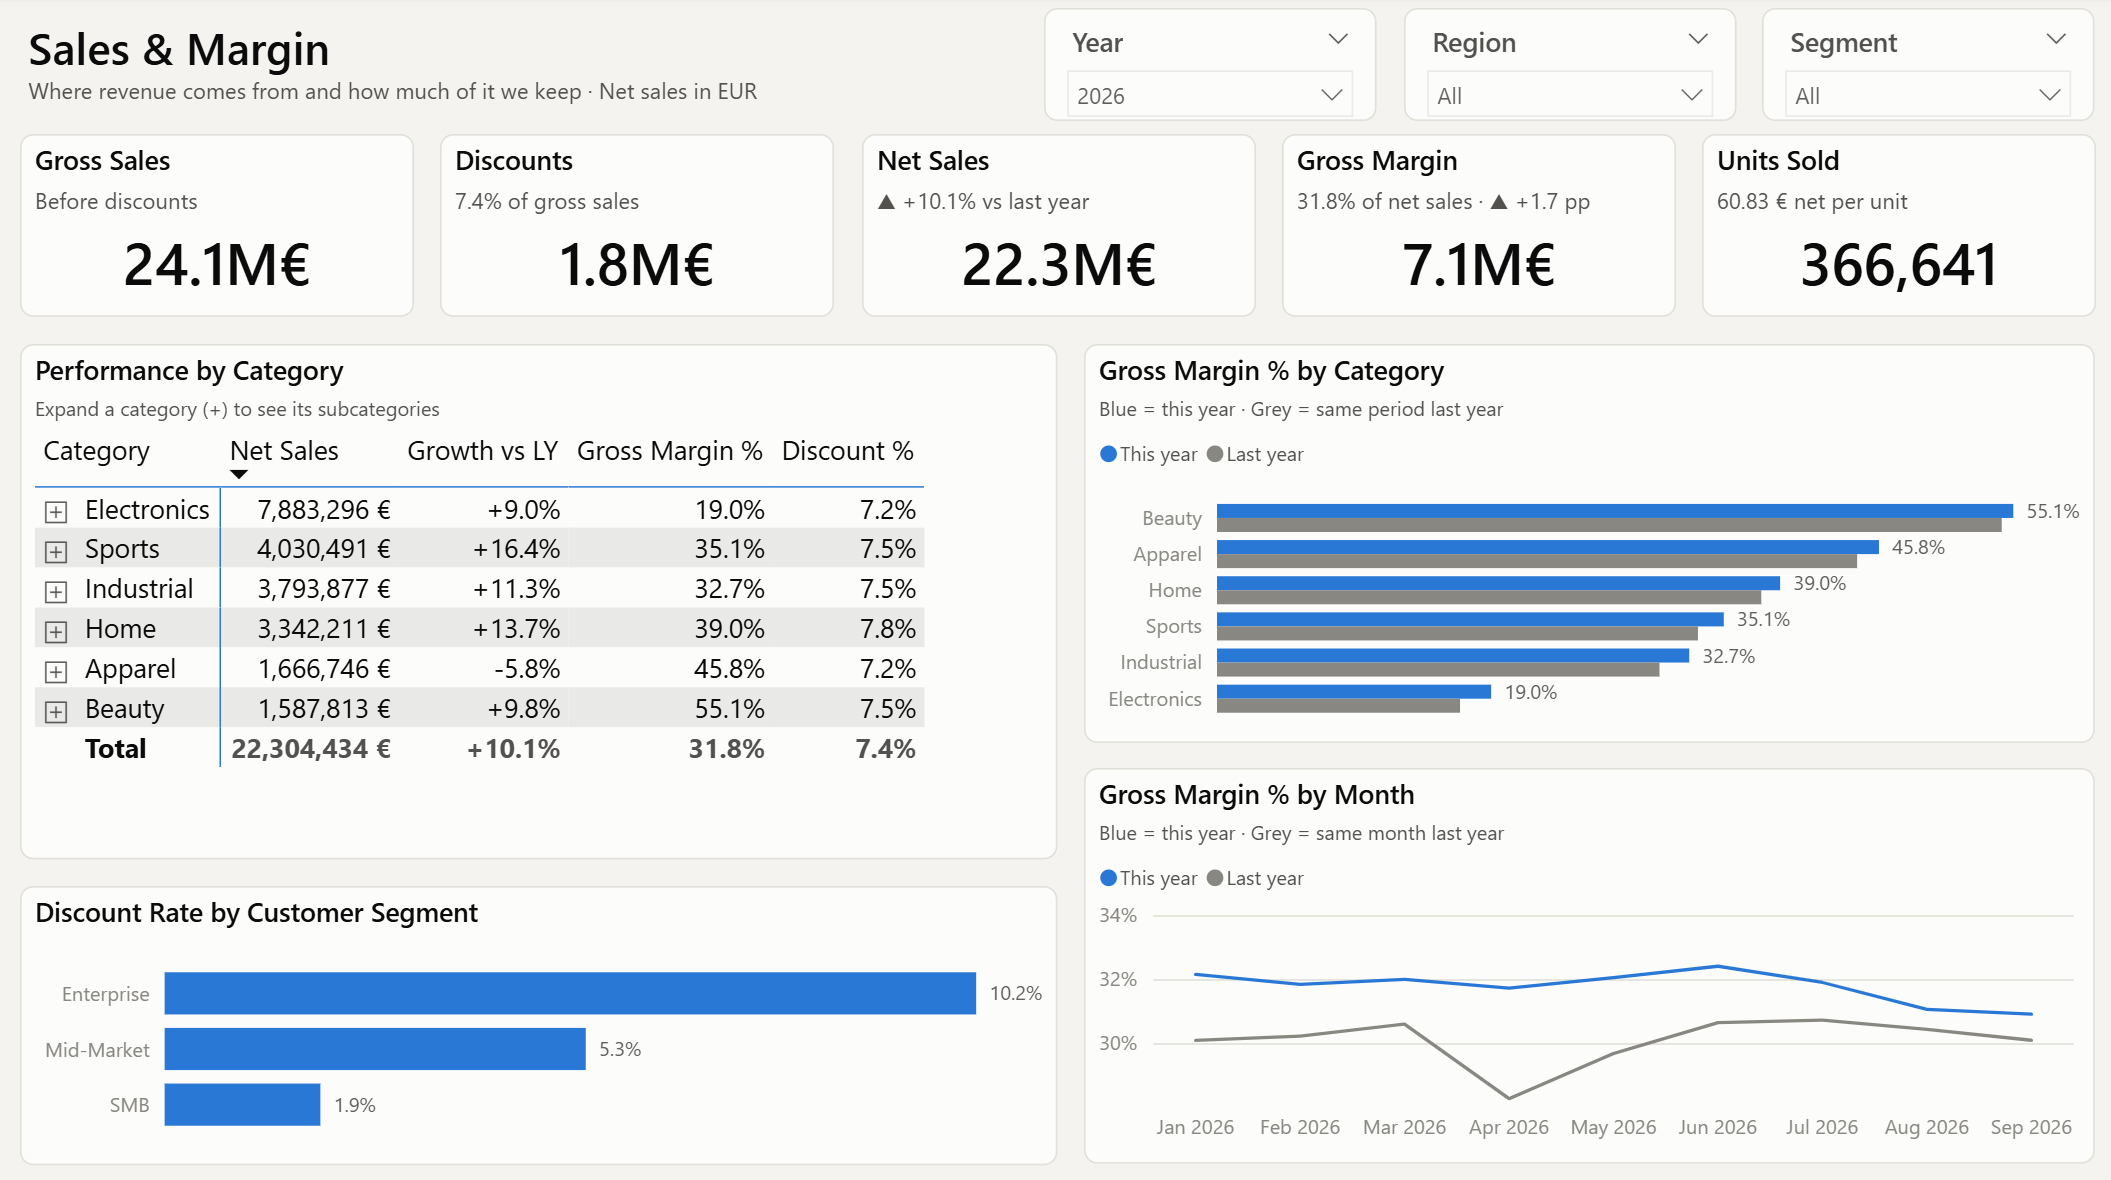

The dashboard page shown, as its layout file describes it:
{"tool":"powerbi","page":{"name":"Sales & Margin","canvas":[1280,720],"ordinal":1},"visuals":[{"type":"textbox","box":[16,8,600,70],"z":0},{"type":"slicer","fields":{"Values":["dim_date.year"]},"box":[632,8,200,68],"z":1000},{"type":"slicer","fields":{"Values":["dim_customer.region"]},"box":[848,8,200,68],"z":2000},{"type":"slicer","fields":{"Values":["dim_customer.segment"]},"box":[1064,8,200,68],"z":3000},{"type":"card","title":"Gross Sales","fields":{"Values":["_measures.Gross Sales"]},"box":[16,84,236.8,110],"z":4000},{"type":"card","title":"Discounts","fields":{"Values":["_measures.Discount Amount"]},"box":[268.8,84,236.8,110],"z":5000},{"type":"card","title":"Net Sales","fields":{"Values":["_measures.Net Sales"]},"box":[521.6,84,236.8,110],"z":6000},{"type":"card","title":"Gross Margin","fields":{"Values":["_measures.Gross Margin"]},"box":[774.4,84,236.8,110],"z":7000},{"type":"card","title":"Units Sold","fields":{"Values":["_measures.Units Sold"]},"box":[1027.2,84,236.8,110],"z":8000},{"type":"pivotTable","title":"Performance by Category","fields":{"Rows":["dim_product.category","dim_product.subcategory"],"Values":["_measures.Net Sales","_measures.Net Sales YoY %","_measures.Gross Margin %","_measures.Discount %"]},"box":[16,210,624,310],"z":9000},{"type":"clusteredBarChart","title":"Discount Rate by Customer Segment","fields":{"Category":["dim_customer.segment"],"Y":["_measures.Discount %"]},"box":[16,536,624,168],"z":10000},{"type":"clusteredBarChart","title":"Gross Margin % by Category","fields":{"Category":["dim_product.category"],"Y":["_measures.Gross Margin %","_measures.Gross Margin % PY"]},"box":[656,210,608,240],"z":11000},{"type":"lineChart","title":"Gross Margin % by Month","fields":{"Category":["dim_date.Month Year"],"Y":["_measures.Gross Margin %","_measures.Gross Margin % PY"]},"box":[656,466,608,238],"z":12000}]}

Visuals, with their boxes in screenshot pixels (x1, y1, x2, y2), scaled from the page's 1280x720 canvas onto the 2111x1180 screenshot:
textbox: pyautogui.locateOnScreen(26, 13, 1016, 128)
slicer - dim_date.year: pyautogui.locateOnScreen(1042, 13, 1372, 125)
slicer - dim_customer.region: pyautogui.locateOnScreen(1399, 13, 1728, 125)
slicer - dim_customer.segment: pyautogui.locateOnScreen(1755, 13, 2085, 125)
"Gross Sales" card: pyautogui.locateOnScreen(26, 138, 417, 318)
"Discounts" card: pyautogui.locateOnScreen(443, 138, 834, 318)
"Net Sales" card: pyautogui.locateOnScreen(860, 138, 1251, 318)
"Gross Margin" card: pyautogui.locateOnScreen(1277, 138, 1668, 318)
"Units Sold" card: pyautogui.locateOnScreen(1694, 138, 2085, 318)
"Performance by Category" pivotTable: pyautogui.locateOnScreen(26, 344, 1056, 852)
"Discount Rate by Customer Segment" clusteredBarChart: pyautogui.locateOnScreen(26, 878, 1056, 1154)
"Gross Margin % by Category" clusteredBarChart: pyautogui.locateOnScreen(1082, 344, 2085, 738)
"Gross Margin % by Month" lineChart: pyautogui.locateOnScreen(1082, 764, 2085, 1154)
